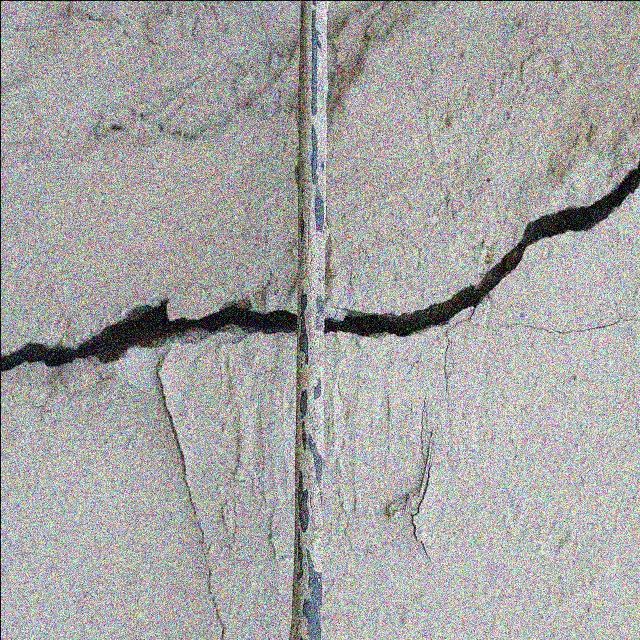SurfaceCrack: (1, 252, 302, 537)
